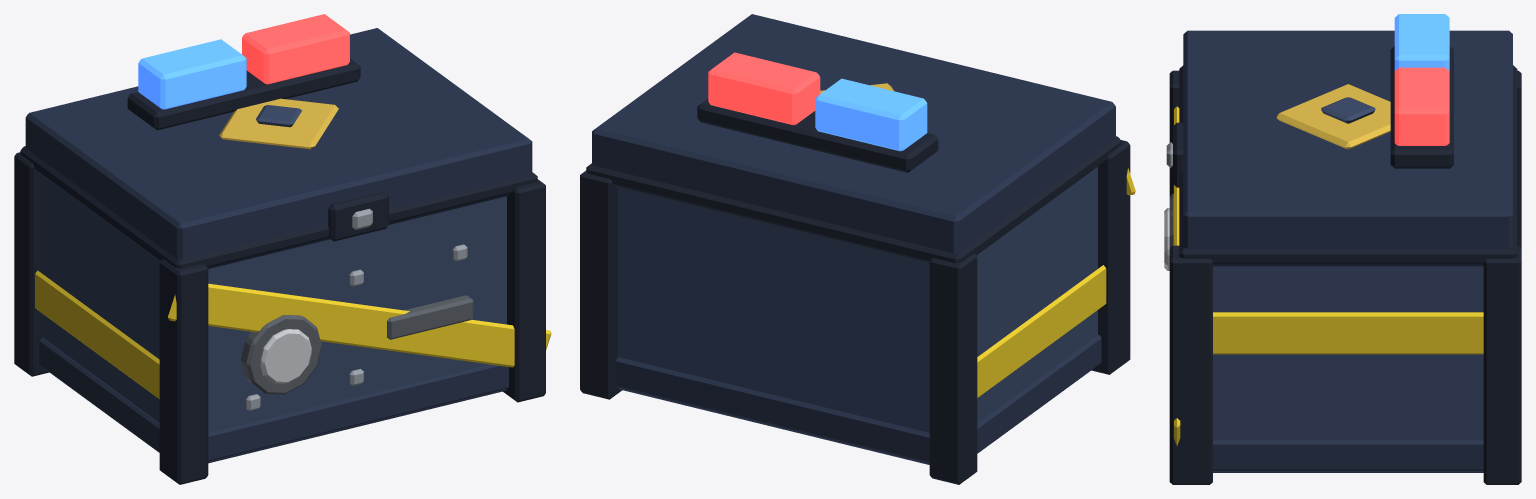
Rendered from myw_crate_zone7.glb.
3 views of the same model, side by side, from view 1: azimuth 30°, elevation 25°; view 2: azimuth 150°, elevation 25°; view 3: azimuth 270°, elevation 25° (orthographic). The views are drawn at different scales.
Parts seen in each view (by area): view 1: Body, Lid; view 2: Body, Lid; view 3: Lid, Body.
Part boxes in pixels (left/top/right/bottom): Body: left=14, top=152, right=551, bottom=484; Lid: left=20, top=14, right=537, bottom=268; Body: left=580, top=140, right=1135, bottom=484; Lid: left=586, top=14, right=1121, bottom=263; Lid: left=1166, top=14, right=1517, bottom=266; Body: left=1164, top=70, right=1521, bottom=484.
Size of the model in its own units: 2.23 by 1.72 by 1.69.
